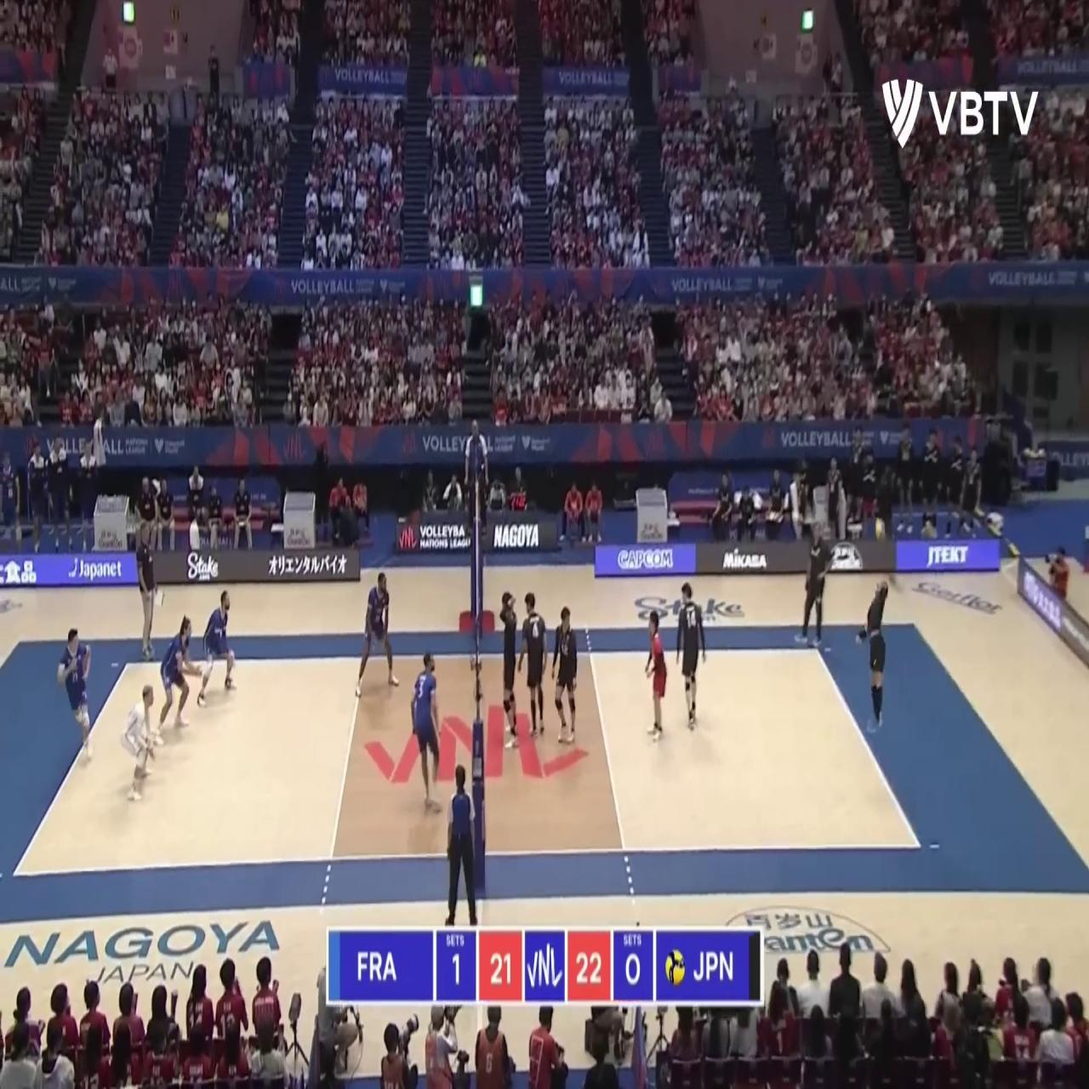ball: (875, 516, 887, 540)
